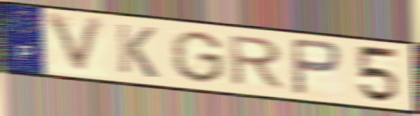5: (352, 43, 402, 105)
G: (168, 29, 227, 85)
K: (114, 21, 160, 80)
P: (288, 36, 345, 98)
R: (228, 34, 288, 91)
V: (42, 11, 109, 78)
